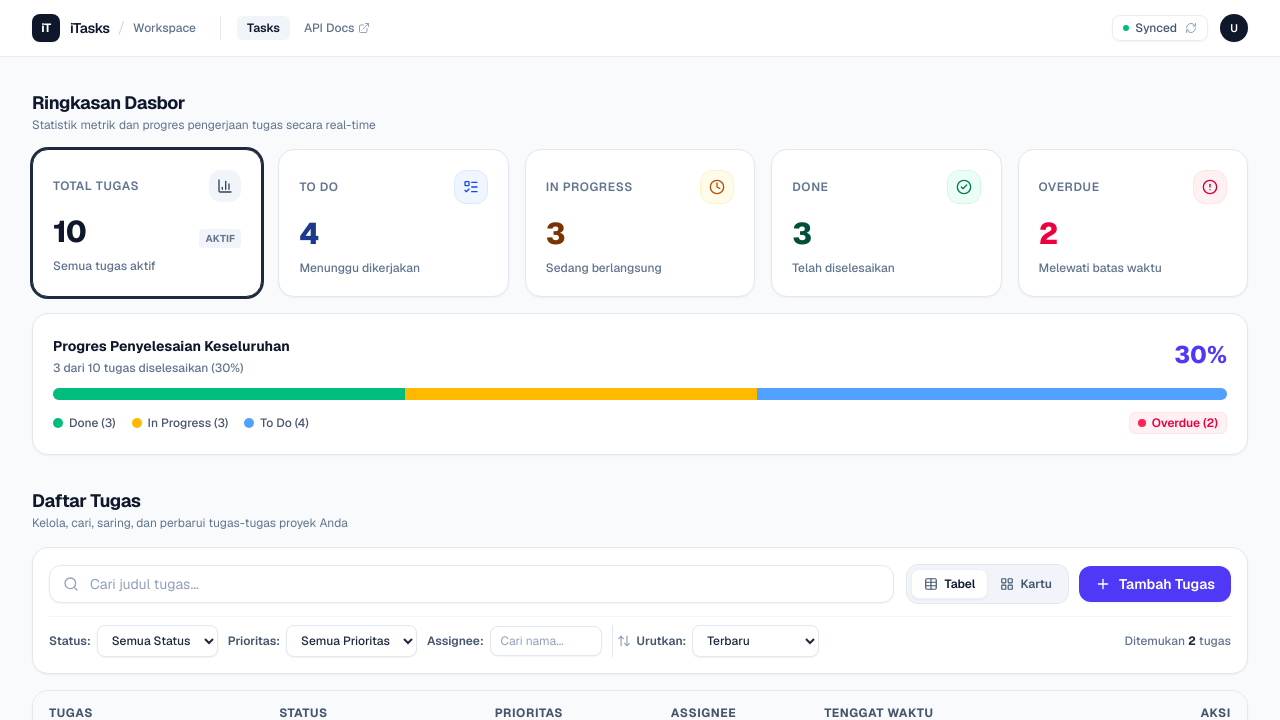
HomePage › modal form › kegagalan simpan menampilkan error dan form tetap terbuka
Click the button "Tambah Tugas": (1155, 584) top-left (1079, 566), bottom-right (1231, 602)
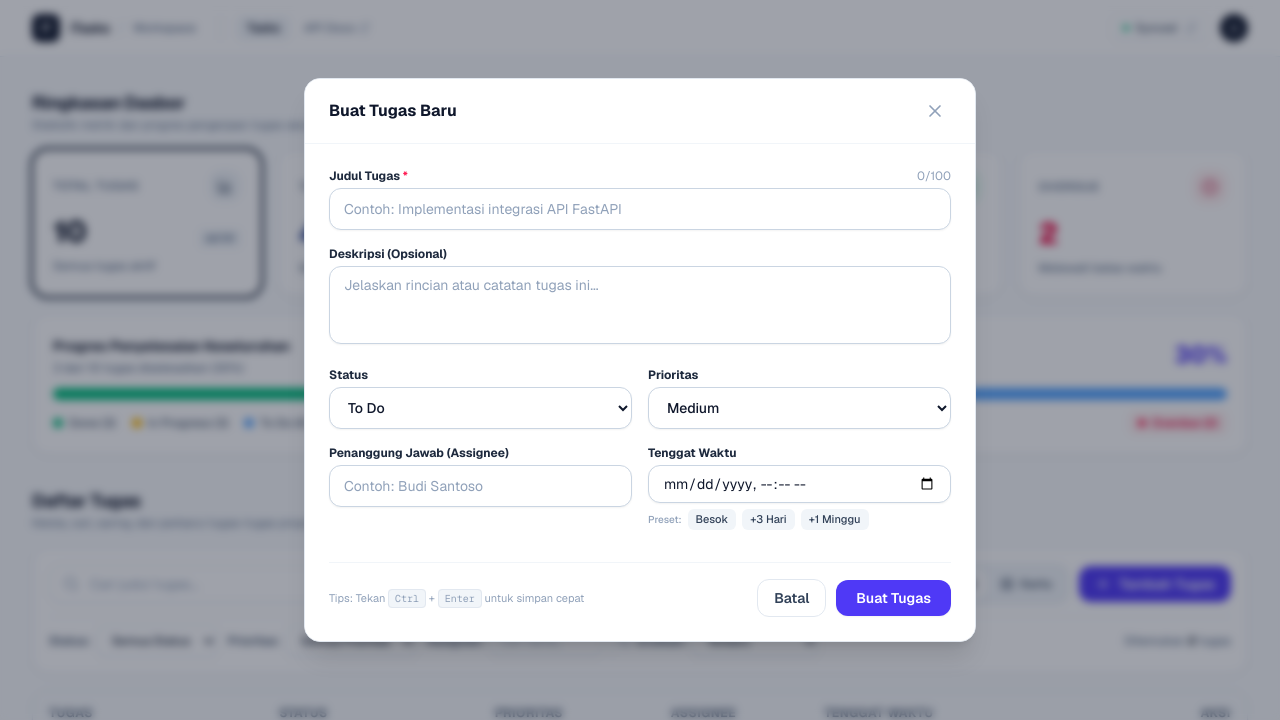
In the field labelled "Judul Tugas *": (640, 209) top-left (329, 188), bottom-right (951, 230), type "Tugas Baru"
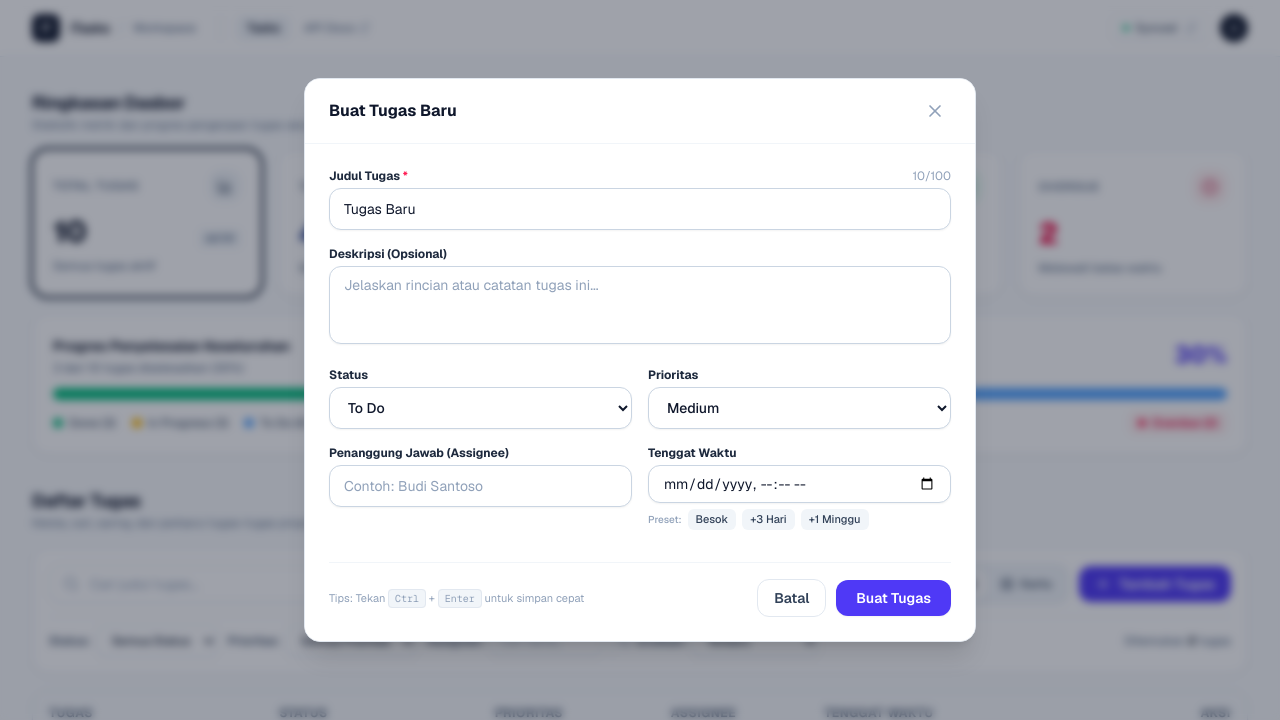
Click the button "Buat Tugas": (894, 598) top-left (836, 580), bottom-right (951, 616)
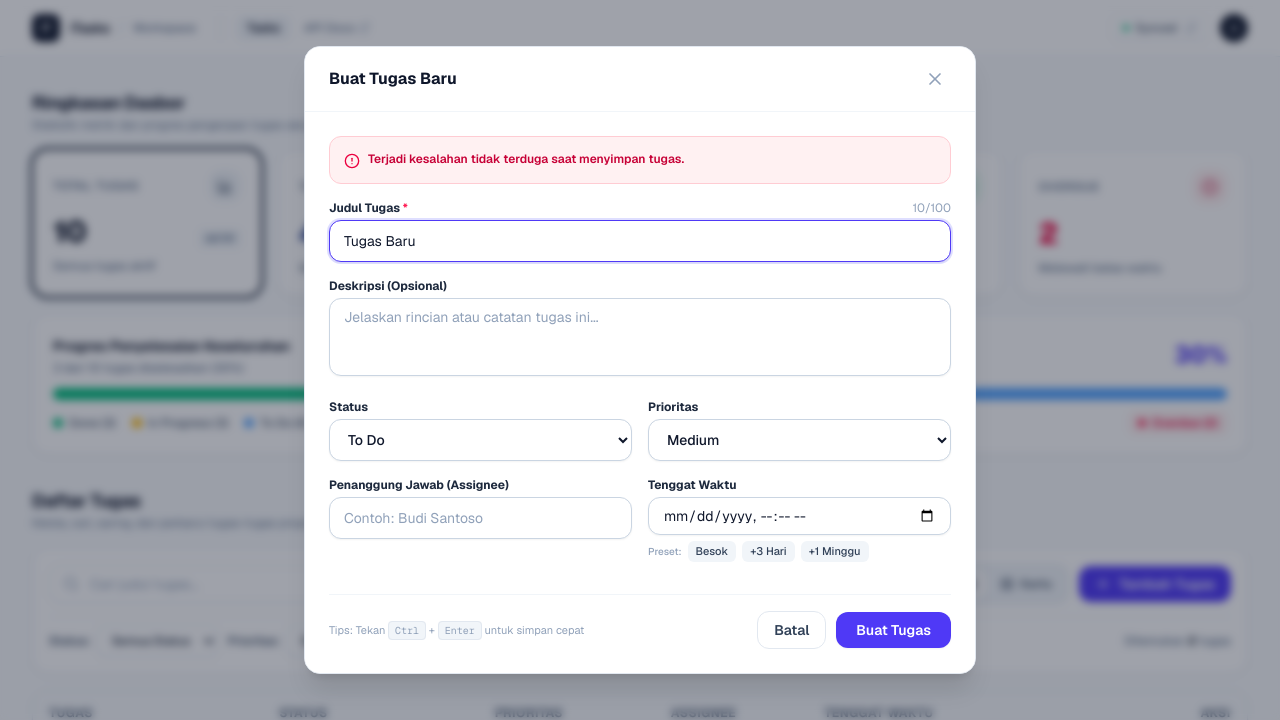
Expected: the dialog "Buat Tugas Baru" is shown, top-left (304, 46), bottom-right (976, 674)
Expected: the text "Terjadi kesalahan tidak terduga saat menyimpan tugas." is shown, top-left (368, 151), bottom-right (684, 167)
